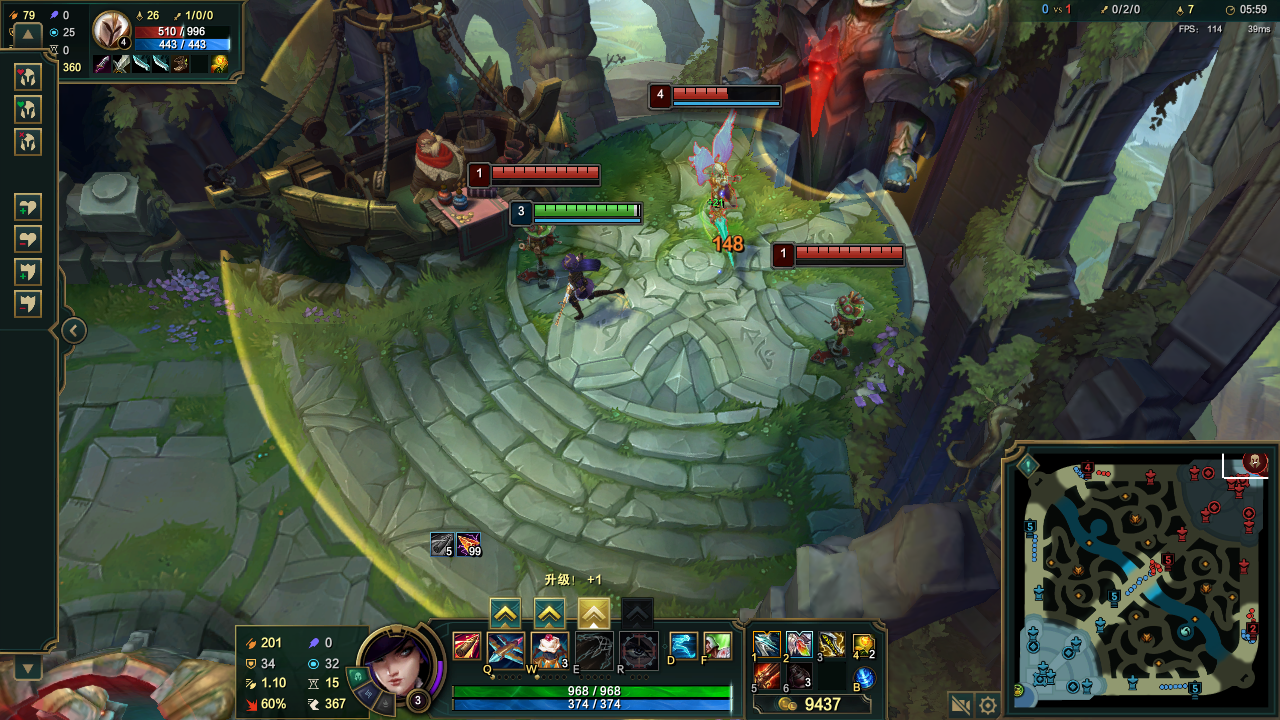DFYX: (673, 85, 778, 101), (493, 165, 598, 180), (797, 244, 904, 256)
